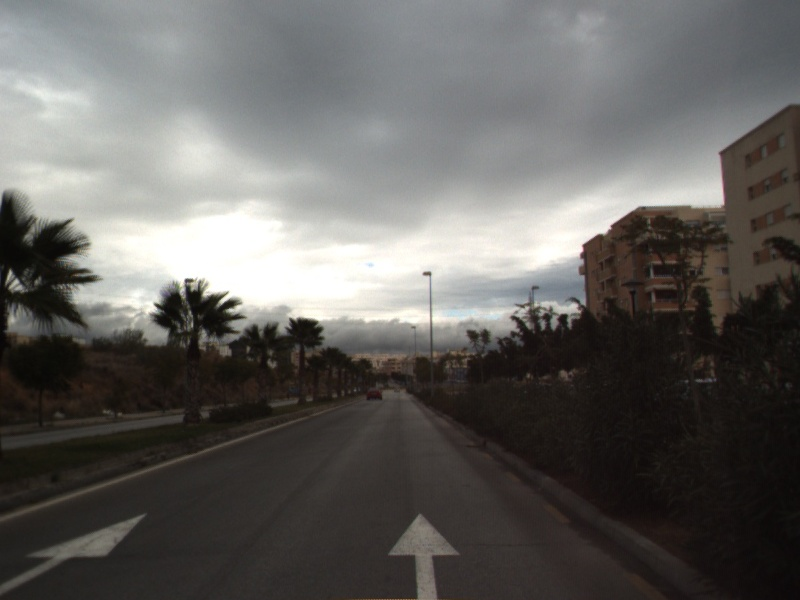STRAIGHT: (1, 511, 150, 597), (386, 511, 463, 600)
